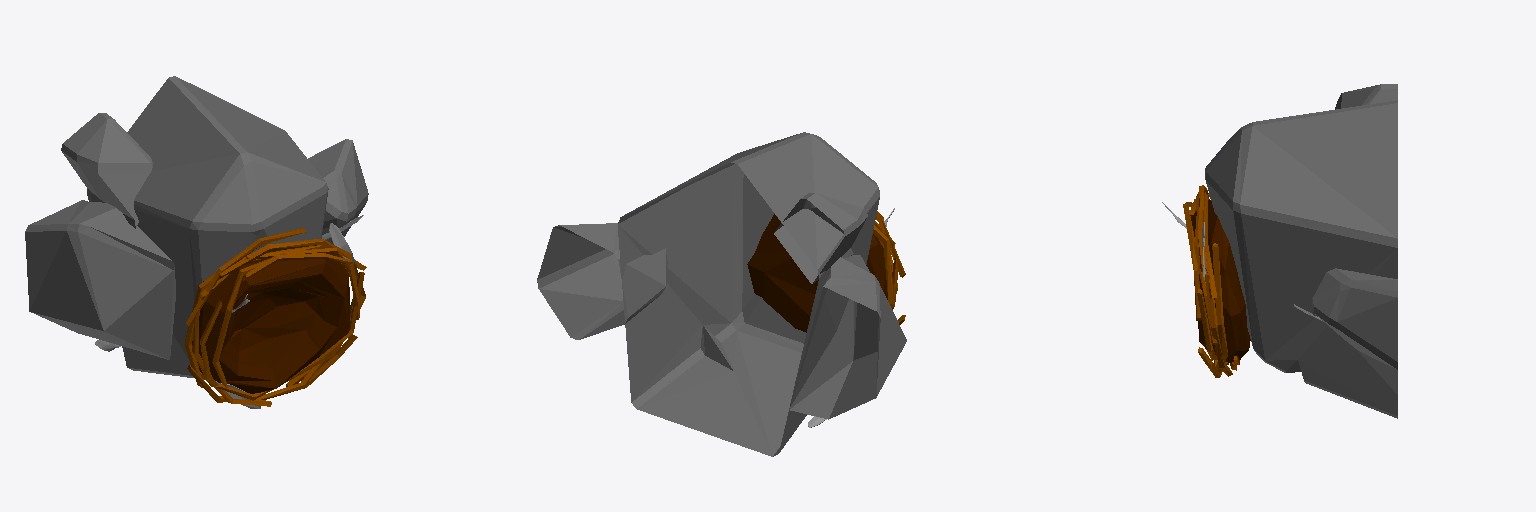
The model's file is nest.obj.
3 renders of one model, left to right at view 1: azimuth 30°, elevation 25°; view 2: azimuth 150°, elevation 25°; view 3: azimuth 270°, elevation 25°, orthographic.
Parts seen in each view (by area): view 1: PUSHILIN_stone:Mesh, polySurface8, polySurface4, polySurface3, polySurface7, polySurface11, polySurface2, polySurface12, polySurface1, polySurface16; view 2: PUSHILIN_stone:Mesh, polySurface8, polySurface16; view 3: PUSHILIN_stone:Mesh, polySurface8, polySurface14, polySurface3, polySurface6.
Part boxes in pixels (bbox=[...]): PUSHILIN_stone:Mesh: bbox=[25, 76, 368, 379]; polySurface8: bbox=[192, 223, 354, 408]; polySurface4: bbox=[186, 228, 306, 326]; polySurface3: bbox=[243, 253, 359, 306]; polySurface7: bbox=[218, 239, 351, 279]; polySurface11: bbox=[216, 272, 364, 400]; polySurface2: bbox=[200, 300, 271, 406]; polySurface12: bbox=[212, 253, 286, 387]; polySurface1: bbox=[256, 334, 357, 399]; polySurface16: bbox=[184, 257, 233, 387]; PUSHILIN_stone:Mesh: bbox=[537, 132, 906, 456]; polySurface8: bbox=[747, 214, 887, 332]; polySurface16: bbox=[873, 225, 894, 307]; PUSHILIN_stone:Mesh: bbox=[1205, 84, 1397, 418]; polySurface8: bbox=[1190, 200, 1250, 364]; polySurface14: bbox=[1212, 243, 1227, 372]; polySurface3: bbox=[1183, 202, 1201, 320]; polySurface6: bbox=[1205, 271, 1232, 376].
Bounding box in the file's own units: 4.63 × 3.66 × 2.77.